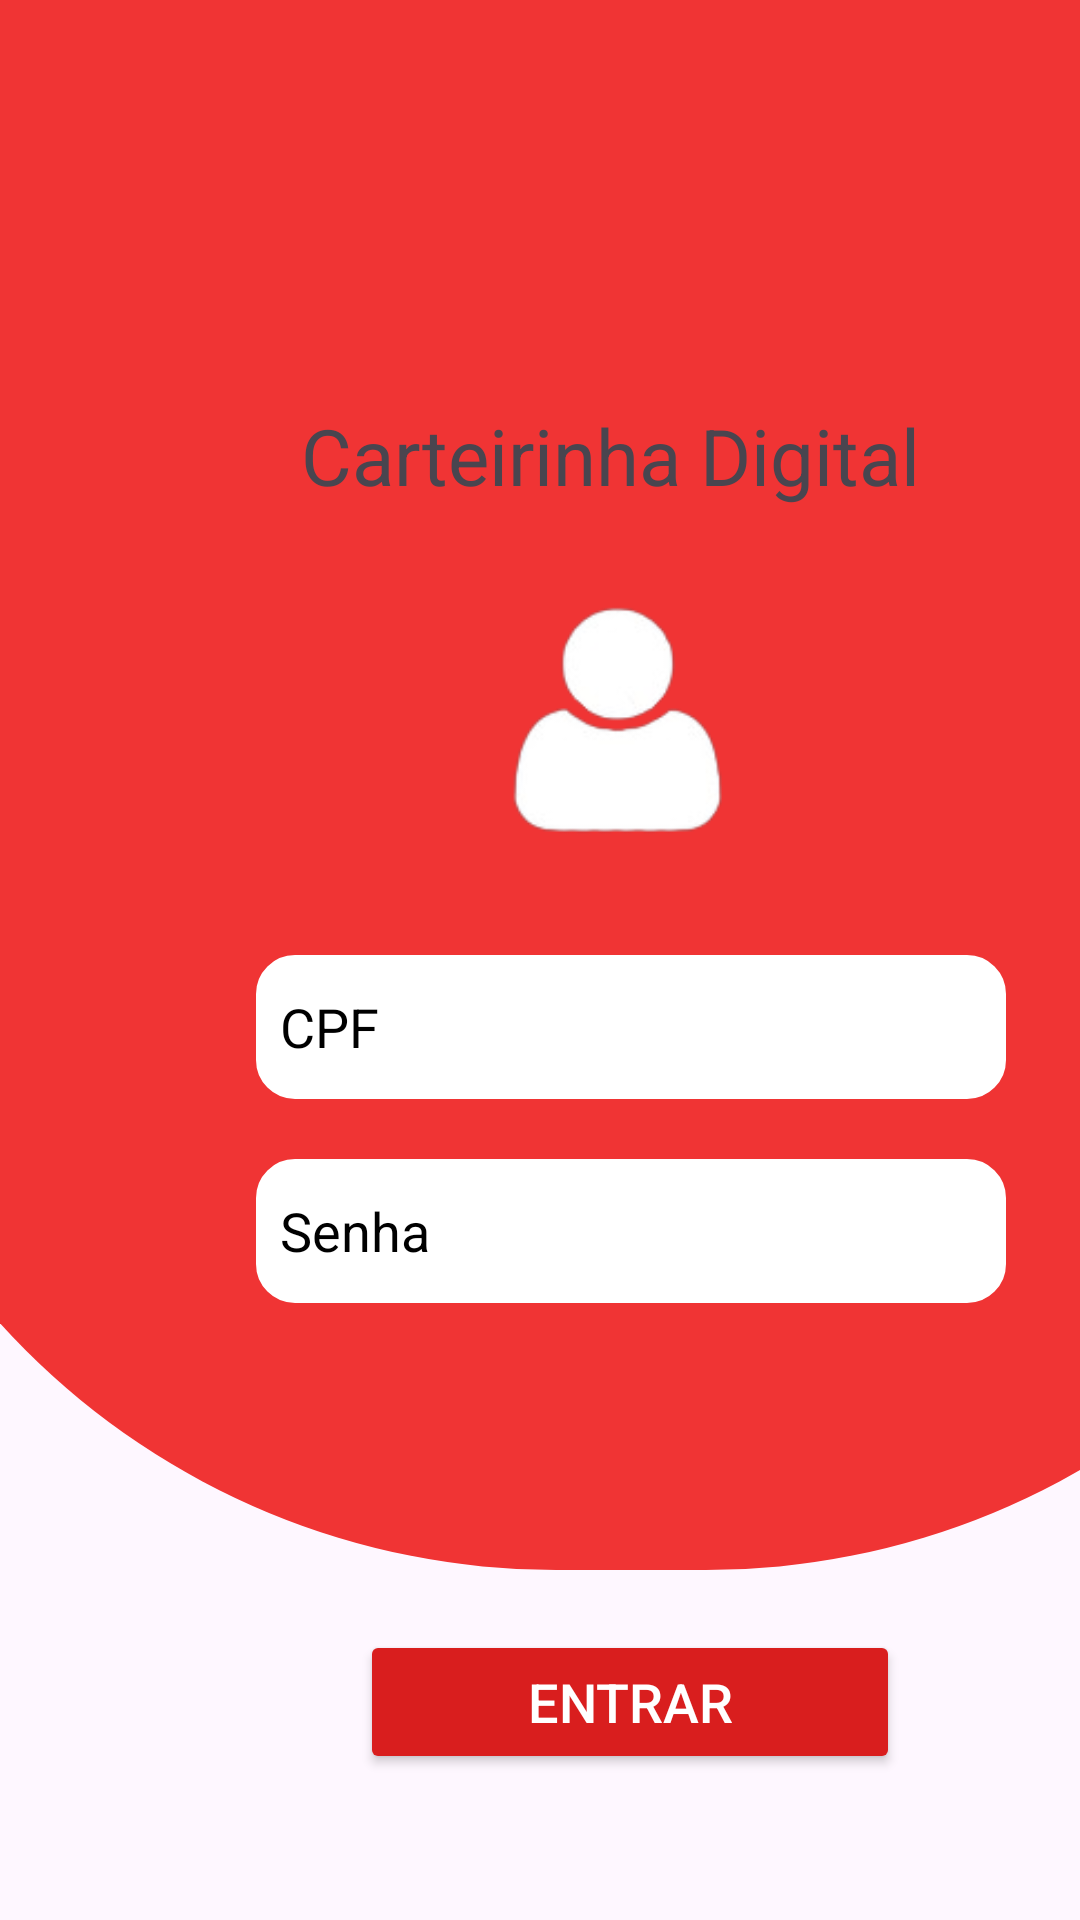

Icon bounding boxes for this 1080x1920 phone screenshot, format bbox(x1, y1, x2, y2):
bonequin: bbox(514, 608, 722, 832)
